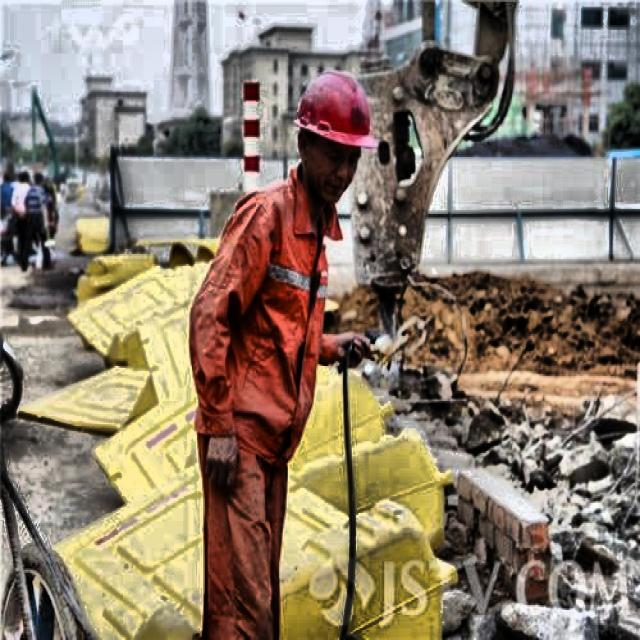helmet: (287, 60, 385, 204)
